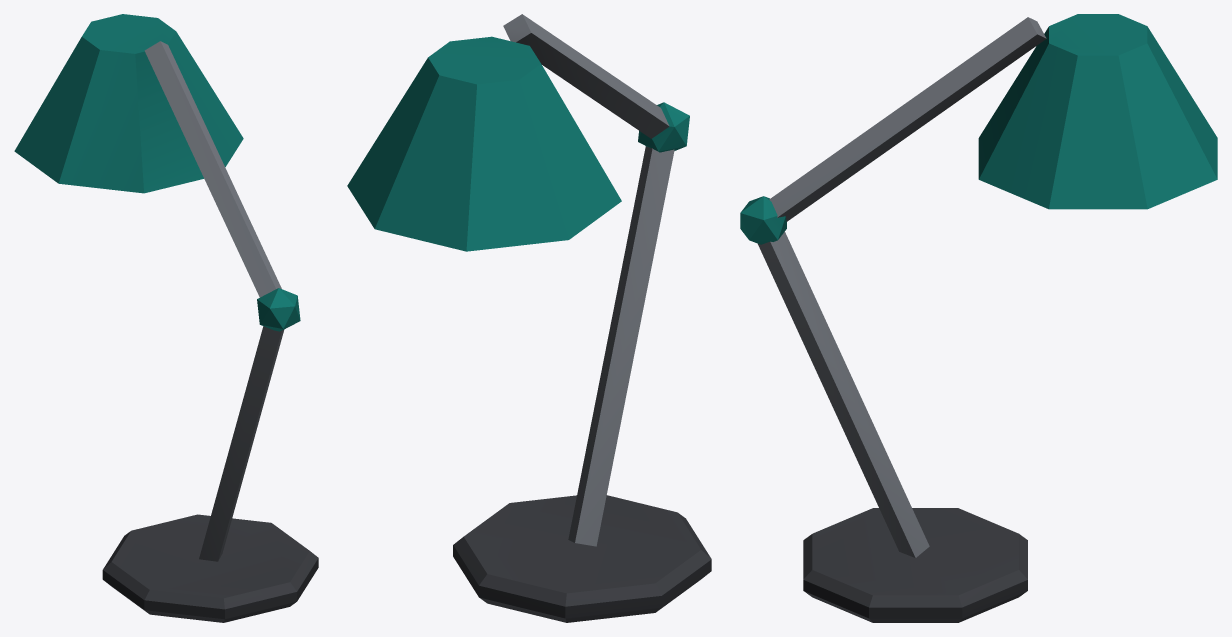
The model's file is desk_lamp_01.glb.
3 views of the same model, side by side, from view 1: azimuth 30°, elevation 25°; view 2: azimuth 150°, elevation 25°; view 3: azimuth 270°, elevation 25° (orthographic). The views are drawn at different scales.
Parts seen in each view (by area): view 1: desk_lamp_01_mesh; view 2: desk_lamp_01_mesh; view 3: desk_lamp_01_mesh.
Boxes of the visible parts, box(x1,y1,x2,y2) form: desk_lamp_01_mesh: box(14, 14, 318, 622); desk_lamp_01_mesh: box(347, 14, 711, 622); desk_lamp_01_mesh: box(740, 14, 1217, 622).
Size of the model in its own units: 0.1571 by 0.4079 by 0.3138.
Materials: 2 (2 with a texture image).
